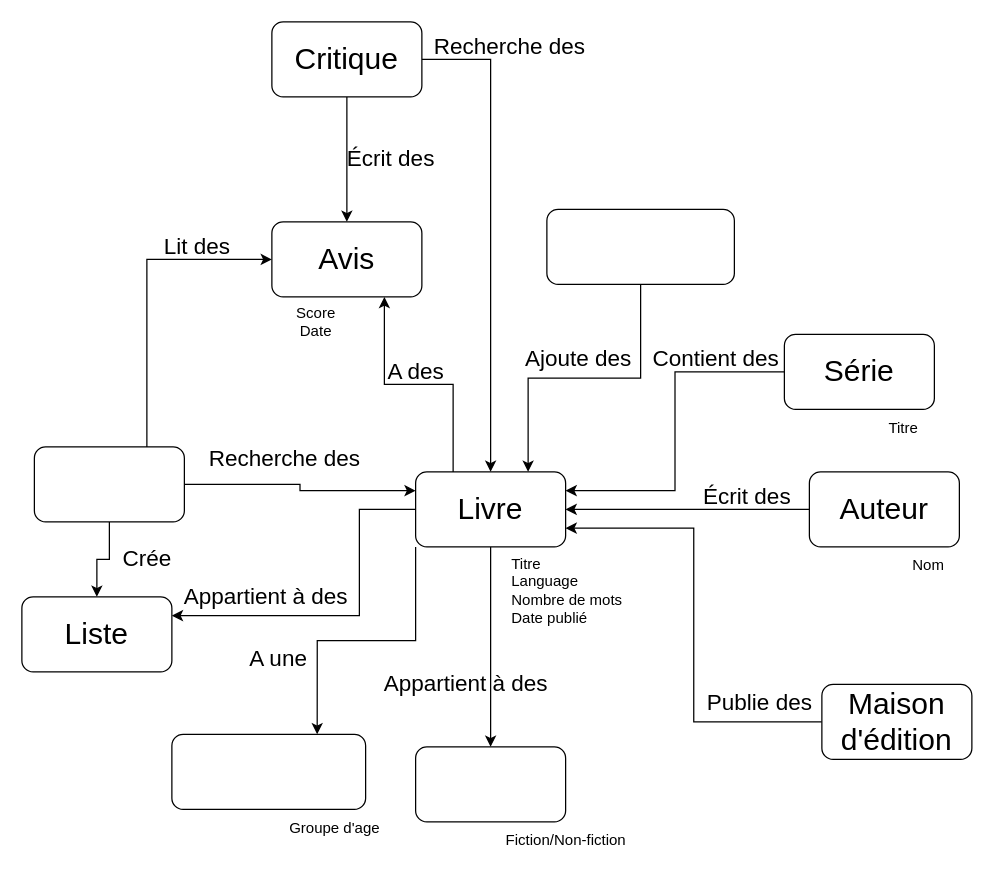
Image size: 994x881. Some labels were removed from this diagram. Each missing label, with the centre of its shape:
"Classification" goes at [268,771].
"Contributeur" goes at [640,246].
"Genre" goes at [490,784].
"Lecteur" goes at [108,484].
